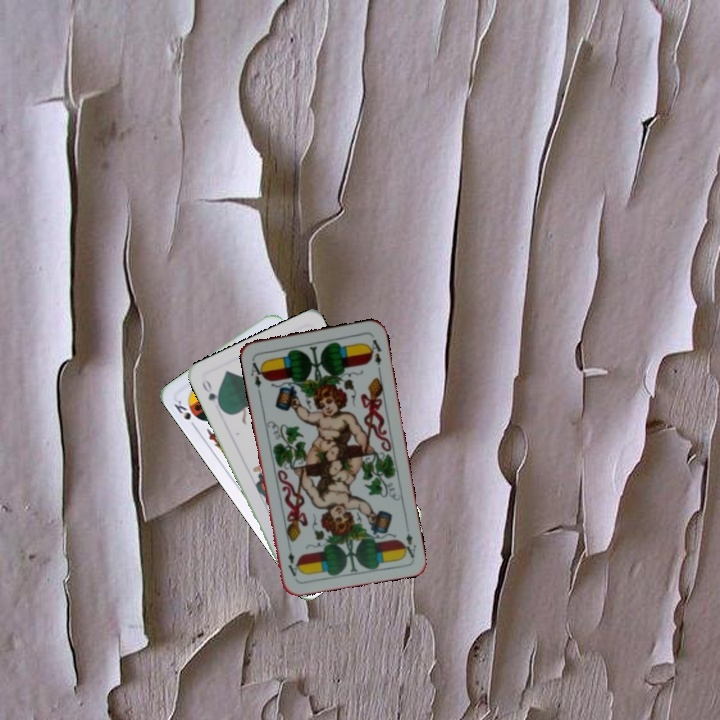EA: (398, 520, 419, 560), (247, 355, 268, 390)
GO: (198, 376, 224, 412)
SK: (170, 396, 202, 432)
